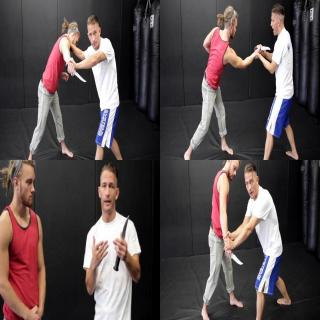knife: (111, 212, 131, 272), (64, 62, 88, 84), (222, 247, 245, 267), (253, 42, 271, 52)
